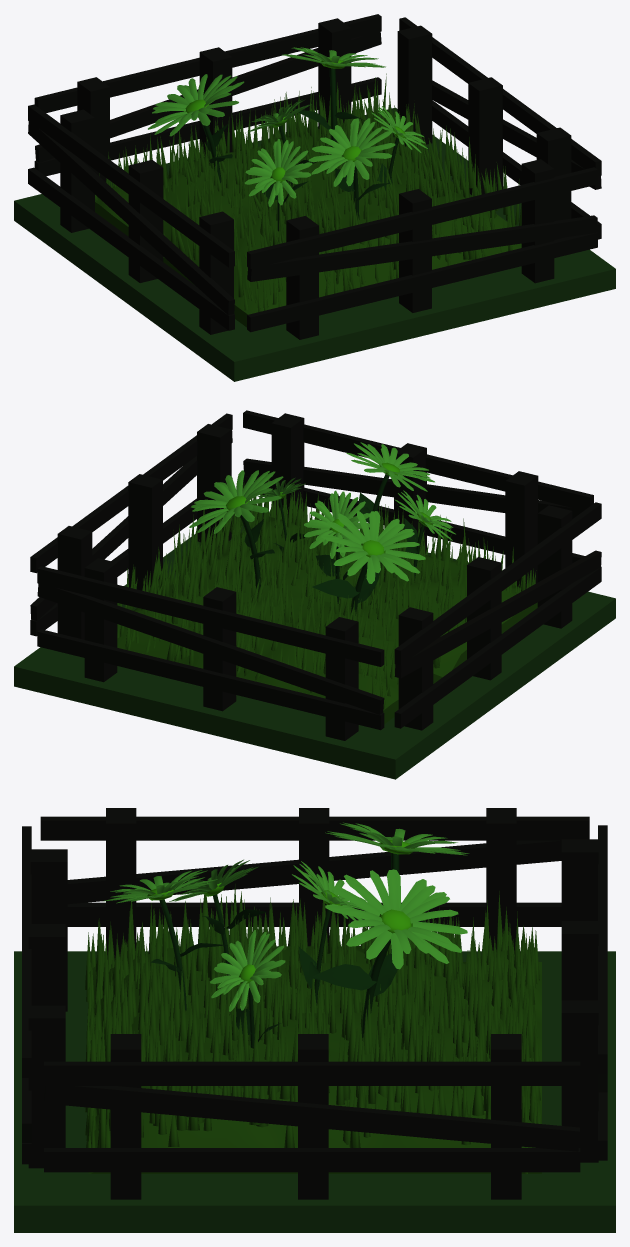
The model's file is SM_Flowers.fbx.
3 views of the same model, one above another, from view 1: azimuth 30°, elevation 25°; view 2: azimuth 150°, elevation 25°; view 3: azimuth 270°, elevation 25° (orthographic). The views are drawn at different scales.
Visible parts, largest first — view 1: Box123; view 2: Box123; view 3: Box123.
Part boxes in pixels (x1,y1,x2,y2): Box123: [14, 14, 615, 381]; Box123: [14, 410, 615, 779]; Box123: [14, 808, 615, 1232].
Size of the model in its own units: 39.37 by 17.91 by 39.37.
